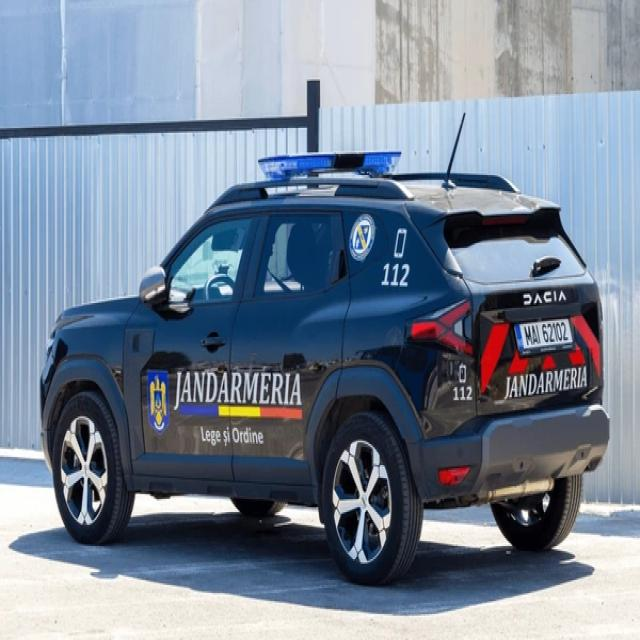dacia: (518, 288, 568, 309)
